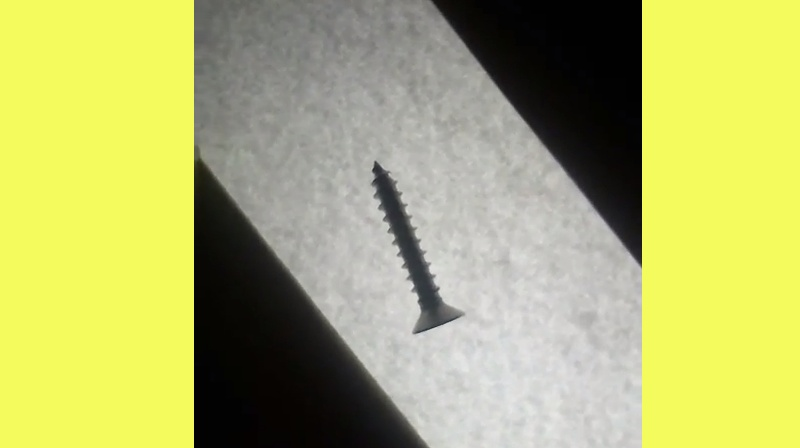S001: (367, 153, 467, 336)
